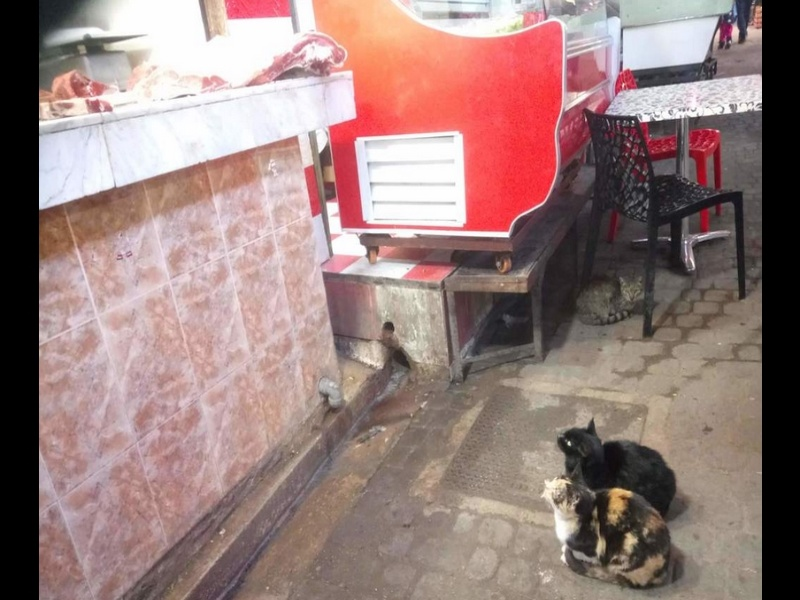cat: (541, 477, 681, 592), (557, 416, 681, 524)
